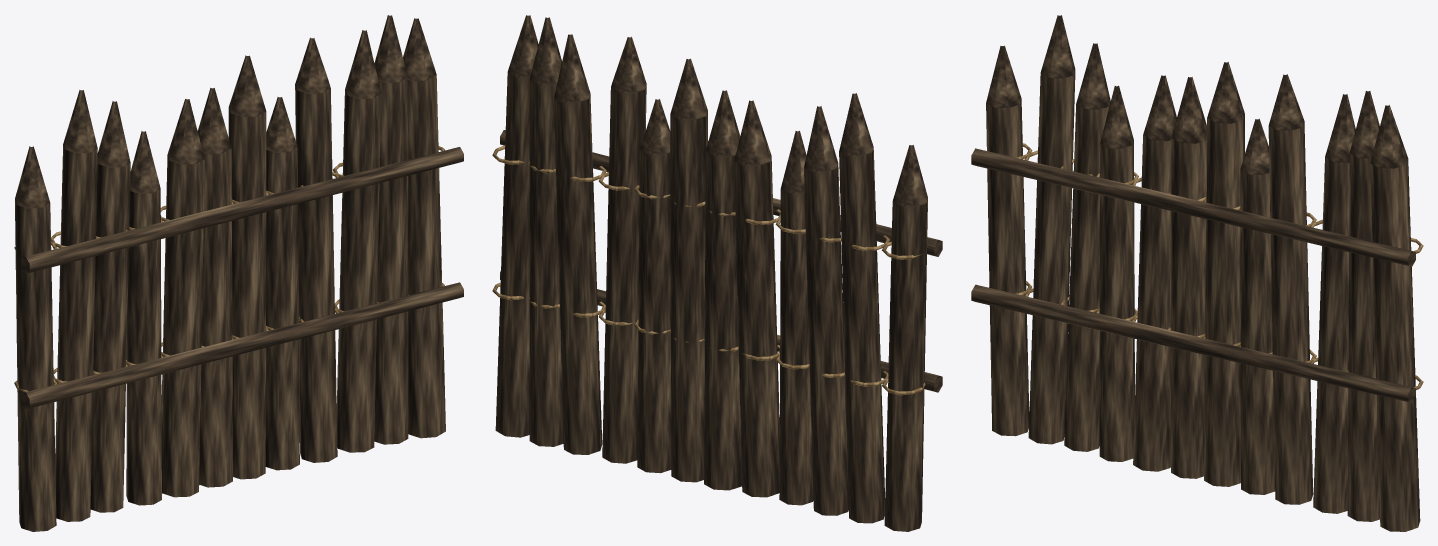
Rendered from palizzata_sezione.gltf.
The picture shows the model from 3 angles, left to right: view 1: azimuth 30°, elevation 25°; view 2: azimuth 150°, elevation 25°; view 3: azimuth 330°, elevation 25°; orthographic projection.
Visible parts, largest first — view 1: palizzata_sezione; view 2: palizzata_sezione; view 3: palizzata_sezione.
Boxes of the visible parts, left/top/right/bottom form: palizzata_sezione: left=14, top=15, right=463, bottom=531; palizzata_sezione: left=492, top=15, right=942, bottom=531; palizzata_sezione: left=971, top=15, right=1423, bottom=531.
Bounding box in the file's own units: 2.89 × 2.68 × 0.3206.
2 materials, 2 textured.
